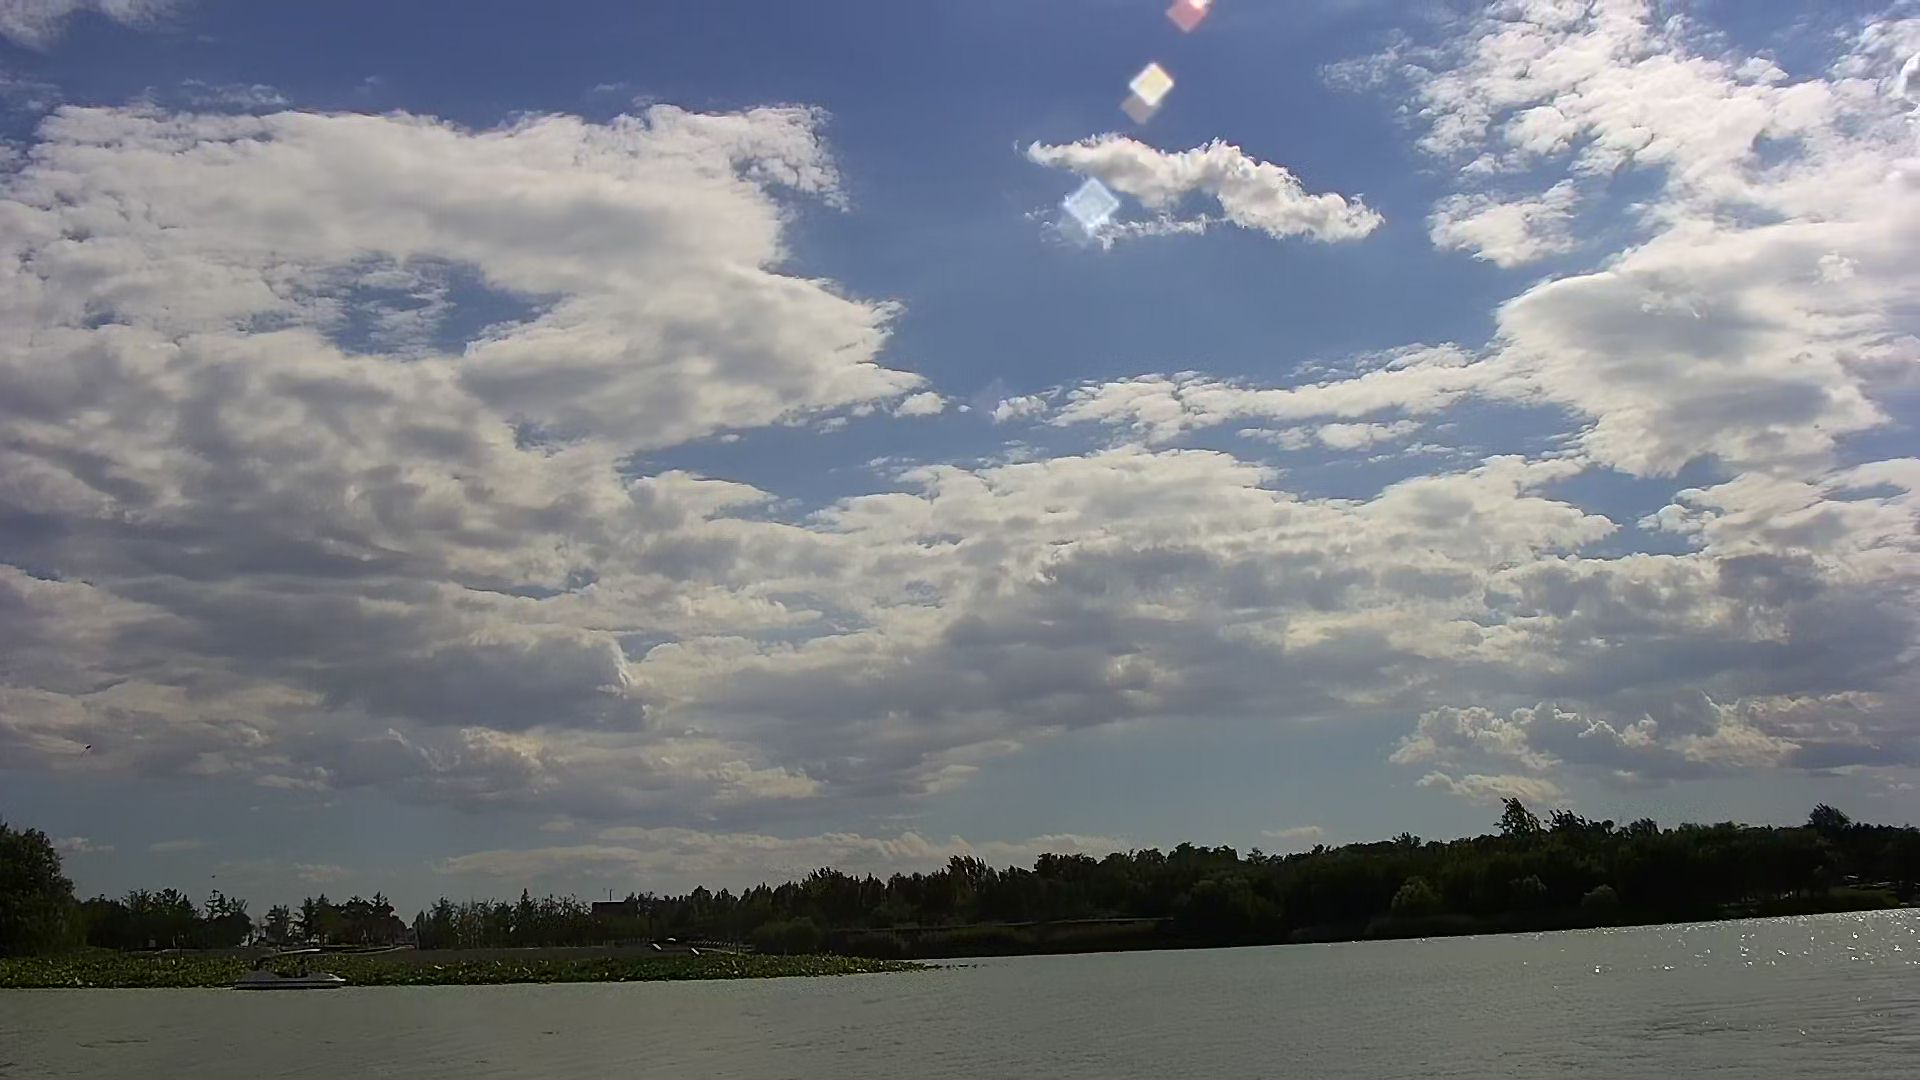boat: (225, 945, 353, 997)
